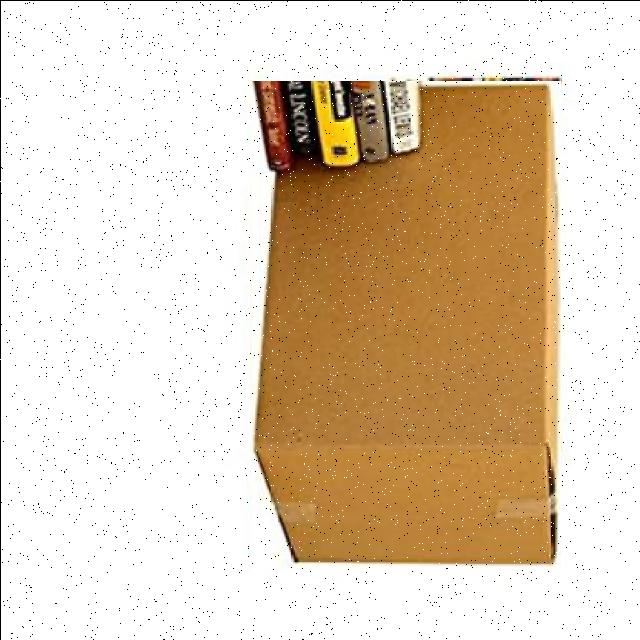normal: (251, 80, 560, 571)
